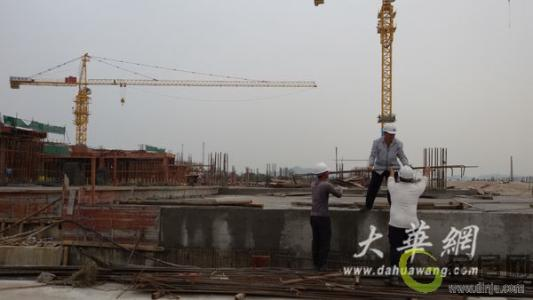hard-hat: (397, 164, 414, 180), (311, 162, 328, 175), (382, 122, 396, 133)
person: (383, 164, 428, 287), (358, 122, 410, 211), (308, 161, 343, 271)
